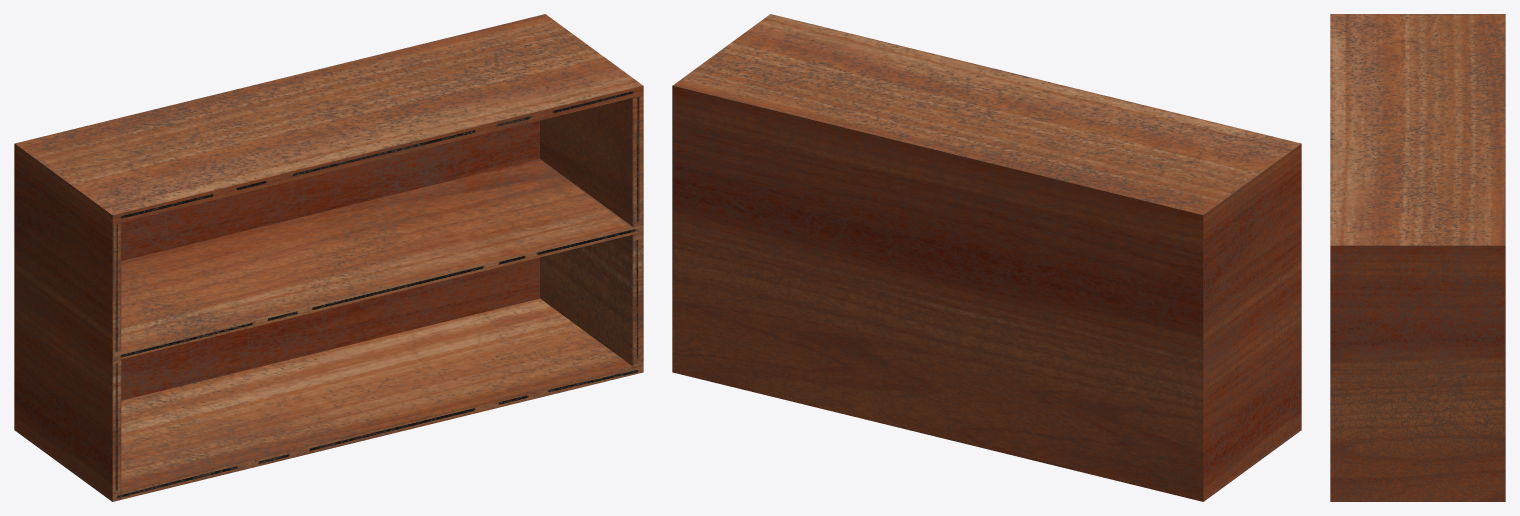
File: biblio.glb
The picture shows the model from 3 angles, left to right: view 1: azimuth 30°, elevation 25°; view 2: azimuth 150°, elevation 25°; view 3: azimuth 270°, elevation 25°; orthographic projection. The views are drawn at different scales.
Parts seen in each view (by area): view 1: Object_2; view 2: Object_2; view 3: Object_2.
Part boxes in pixels (x1,y1,x2,y2): Object_2: [14, 14, 643, 501]; Object_2: [672, 14, 1301, 501]; Object_2: [1330, 14, 1505, 501].
Size of the model in its own units: 150 by 77.38 by 47.96.
Materials: 1 (1 with a texture image).
